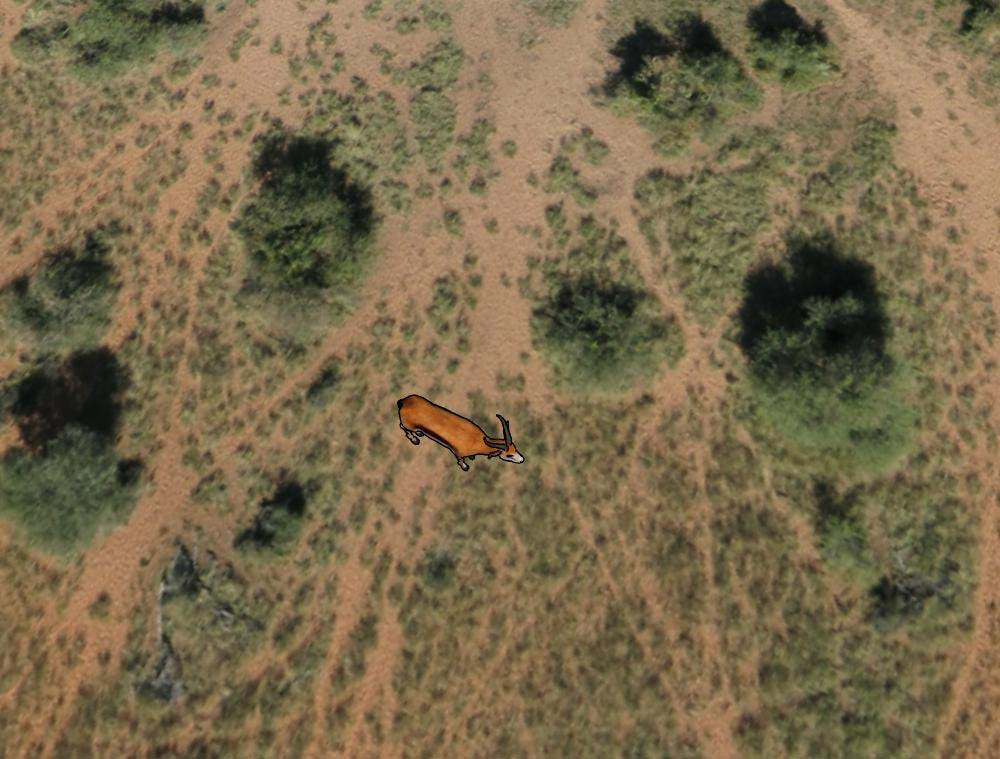springbok: (391, 388, 527, 484)
